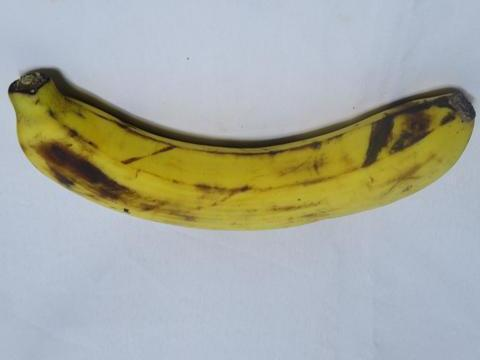overripe: (0, 55, 479, 242)
